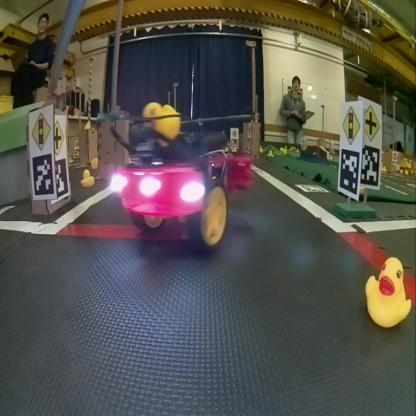Duckie: (365, 258, 410, 324), (142, 107, 180, 138), (80, 168, 94, 186)
Duckiebot: (108, 114, 234, 239)
Intersection sign: (363, 103, 379, 141), (53, 118, 64, 152), (230, 127, 237, 136)
QR code: (338, 148, 360, 192), (31, 155, 54, 195), (361, 145, 380, 185), (294, 183, 324, 192), (230, 138, 237, 146)
Signal sign: (31, 111, 50, 151), (340, 106, 360, 143)
